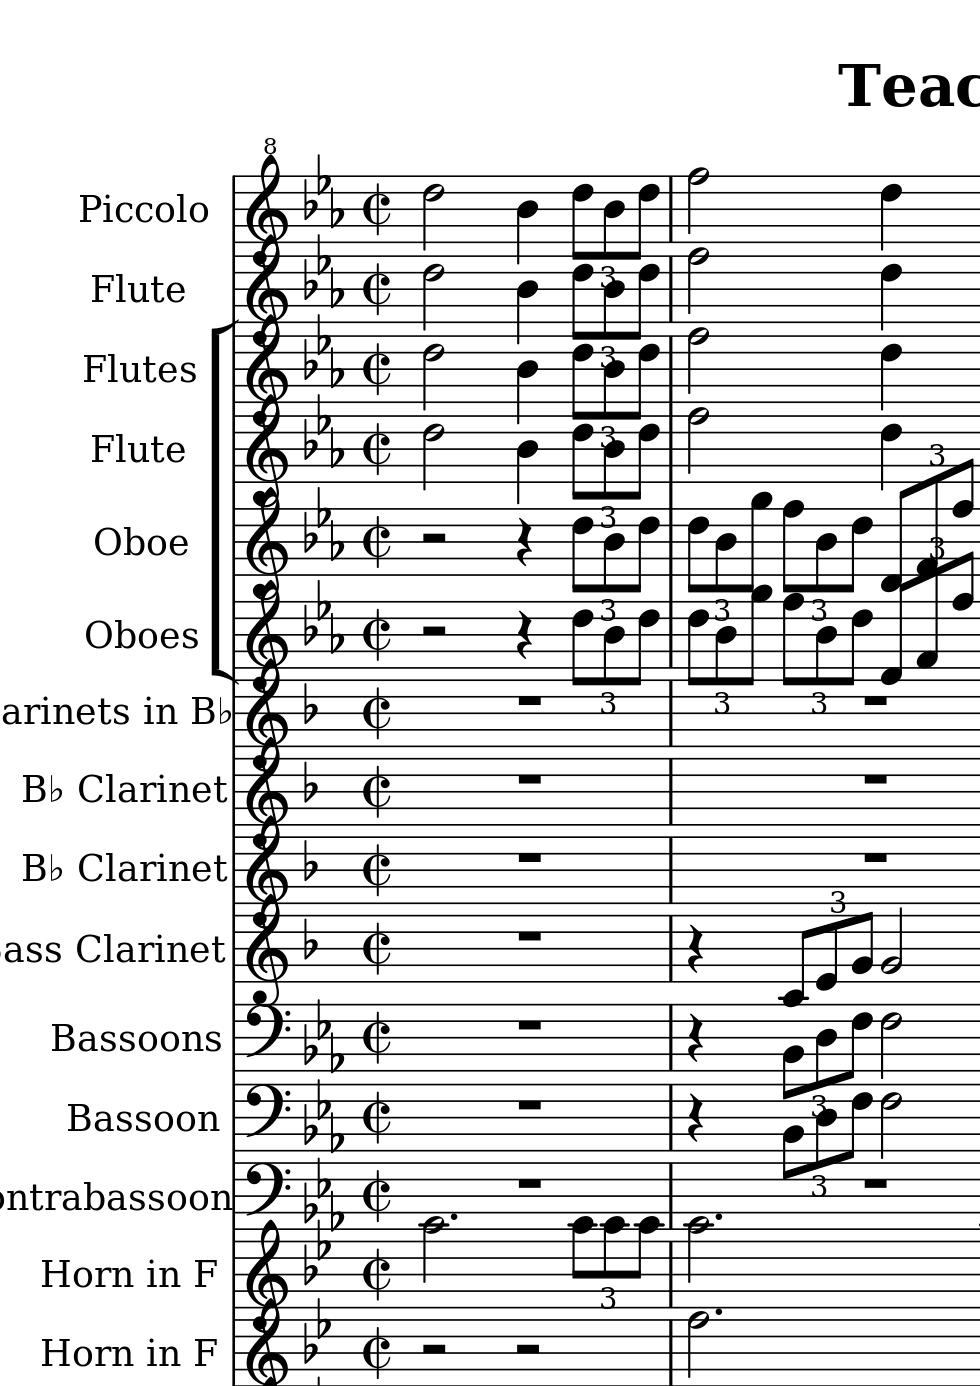2_2: (880, 902, 905, 987)
2_8: (684, 1308, 711, 1386), (685, 244, 711, 320), (686, 402, 708, 485), (686, 165, 711, 241), (686, 323, 711, 396)
Bass: (49, 1019, 137, 1054), (63, 1100, 151, 1135), (83, 1178, 171, 1213)
Cl: (75, 767, 118, 808), (72, 925, 115, 966), (73, 847, 116, 888)
E_F: (299, 1074, 347, 1157), (299, 393, 347, 472), (299, 998, 347, 1074), (300, 579, 347, 656), (301, 151, 346, 230), (300, 231, 346, 309), (300, 486, 345, 562), (299, 317, 346, 389), (358, 168, 393, 240), (360, 416, 396, 476), (358, 343, 398, 393), (358, 262, 395, 315)
Fl: (90, 270, 129, 308), (82, 350, 121, 387), (86, 429, 125, 466)
Flat: (301, 918, 316, 961)
Hn: (39, 1332, 135, 1371), (38, 1252, 134, 1291)
Ob: (94, 520, 142, 559), (84, 612, 132, 651)
Picc: (78, 188, 157, 226)
Rests1: (859, 769, 892, 791), (513, 769, 546, 790), (513, 847, 546, 869), (513, 926, 546, 947), (859, 847, 891, 869), (513, 1015, 546, 1035), (514, 1095, 545, 1115), (515, 1173, 545, 1192), (514, 692, 544, 710), (860, 694, 891, 710), (861, 1176, 890, 1193)
Rests2: (418, 529, 450, 550), (418, 1340, 450, 1361), (512, 1341, 545, 1361), (418, 622, 450, 642)
Rests4: (685, 1092, 706, 1145), (685, 922, 705, 973), (514, 515, 533, 568), (514, 609, 533, 661), (686, 1011, 705, 1063)
Single_barline: (227, 508, 243, 578), (663, 680, 678, 749), (663, 759, 678, 828), (663, 1321, 679, 1385), (664, 175, 679, 242), (664, 837, 678, 905), (664, 916, 677, 986), (665, 1004, 677, 1074), (664, 1243, 677, 1306)
TimeSig: (361, 915, 395, 985), (360, 757, 392, 827), (361, 679, 393, 748), (362, 835, 393, 903), (362, 1004, 393, 1073), (363, 600, 393, 670), (363, 1240, 393, 1310), (363, 507, 393, 576), (363, 1082, 393, 1151), (363, 1163, 392, 1229)
dot: (447, 1212, 458, 1224)
